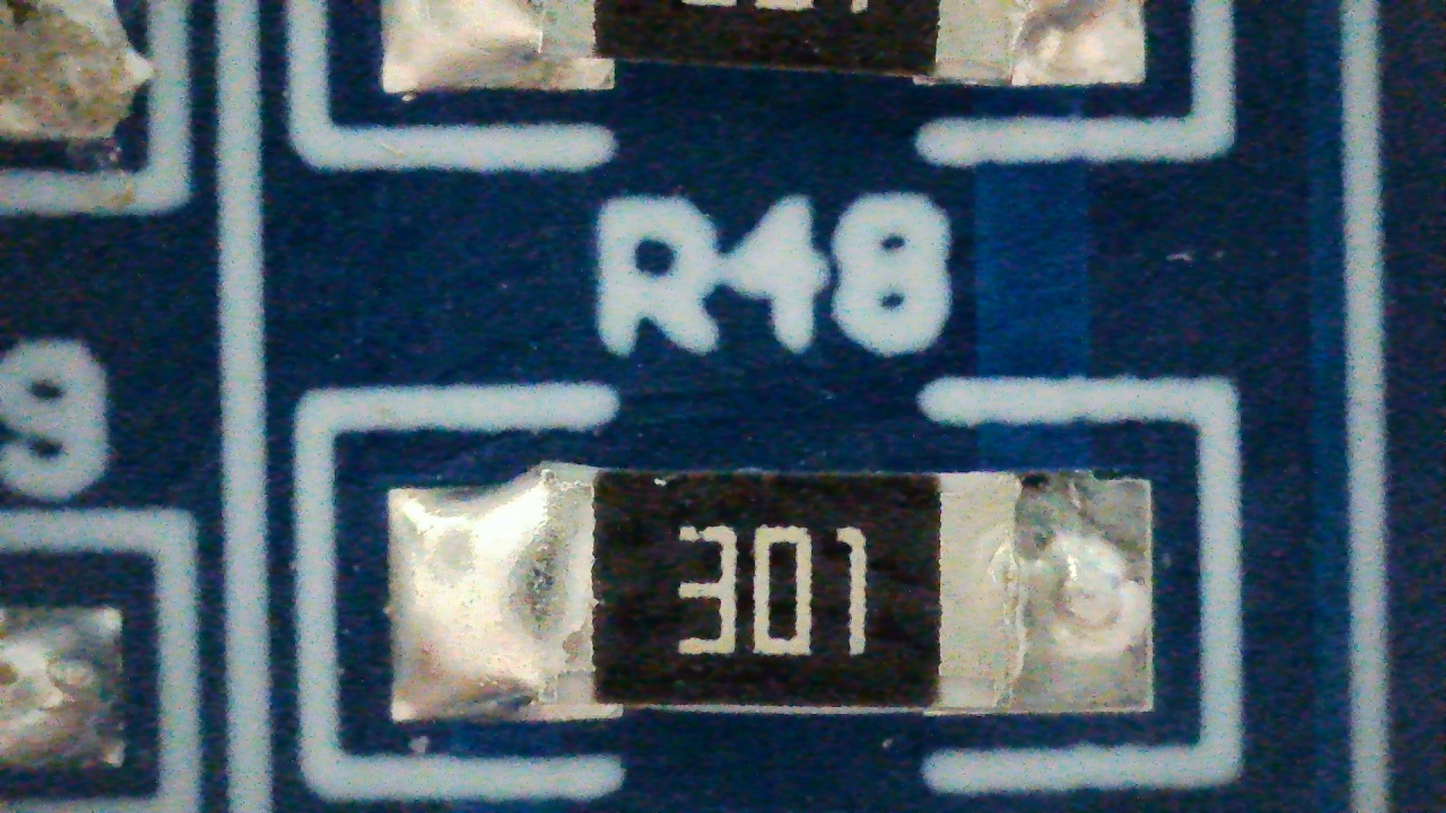OK: (388, 460, 1150, 720)
